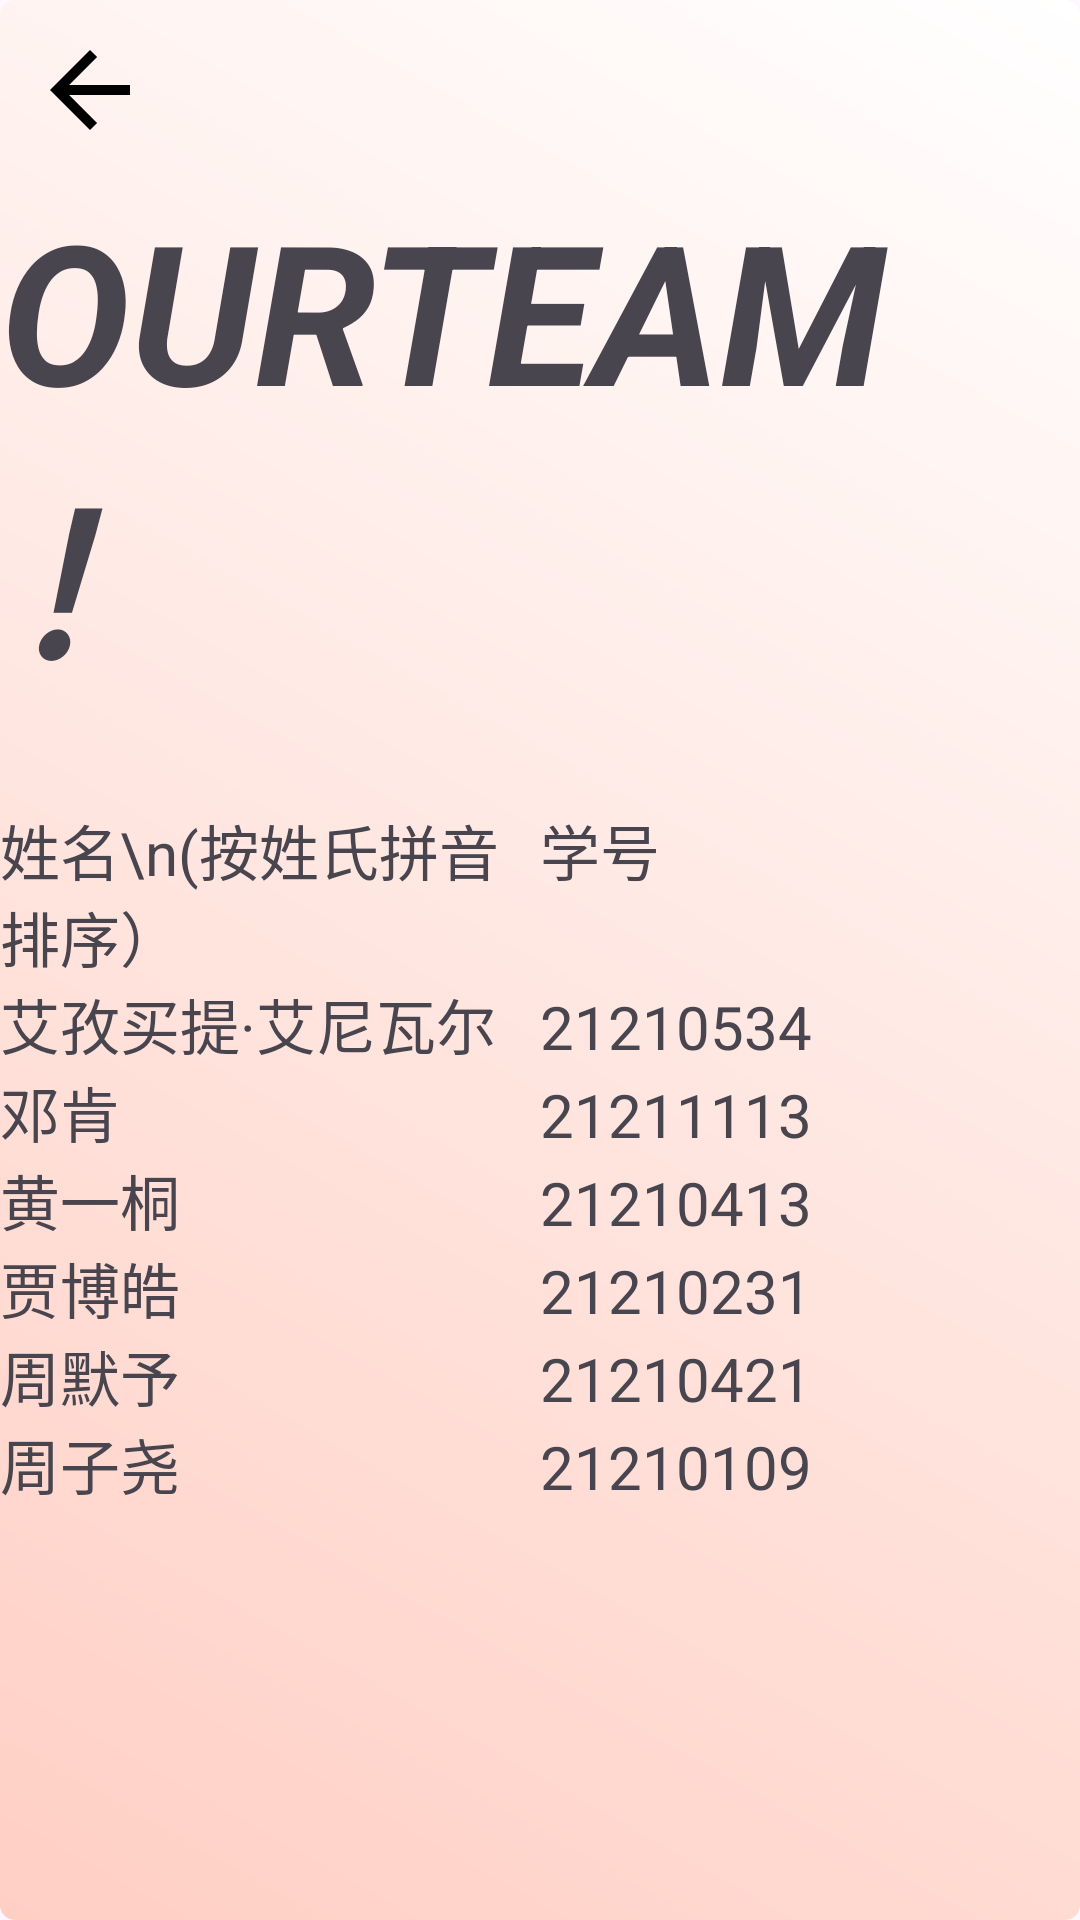

Locate icon controls on the screen. Image size 1080x1920, boxes as (x1, y1, x2, y2).
Back: (50, 50, 130, 130)
